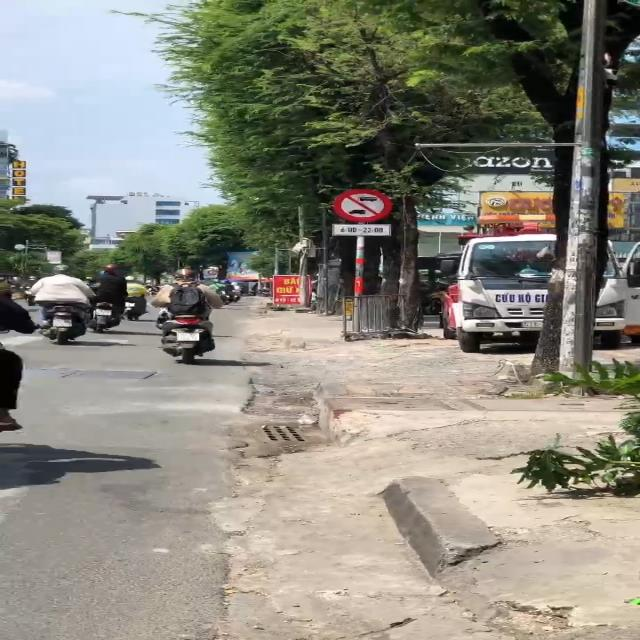Bien bao cam xe oto khach va xe oto tai: (326, 185, 396, 225)
